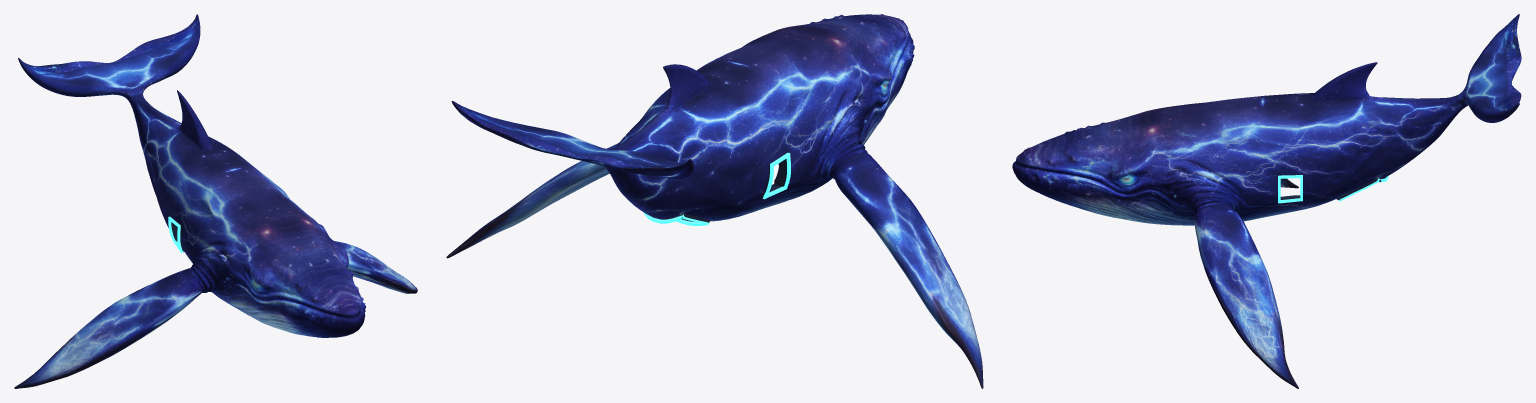
Rendered from Space Whale doors.glb.
The picture shows the model from 3 angles, left to right: view 1: azimuth 30°, elevation 25°; view 2: azimuth 150°, elevation 25°; view 3: azimuth 270°, elevation 25°; orthographic projection. The views are drawn at different scales.
Parts seen in each view (by area): view 1: Mesh_0.002; view 2: Mesh_0.002; view 3: Mesh_0.002.
Part boxes in pixels (x1=…): Mesh_0.002: x1=14, y1=14, x2=417, y2=388; Mesh_0.002: x1=446, y1=14, x2=983, y2=388; Mesh_0.002: x1=1012, y1=14, x2=1521, y2=388.
Bounding box in the file's own units: 0.2254 × 0.12 × 0.2408.
5 materials, 1 textured.
